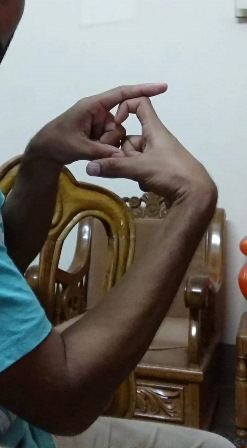kh: (66, 84, 180, 182)
